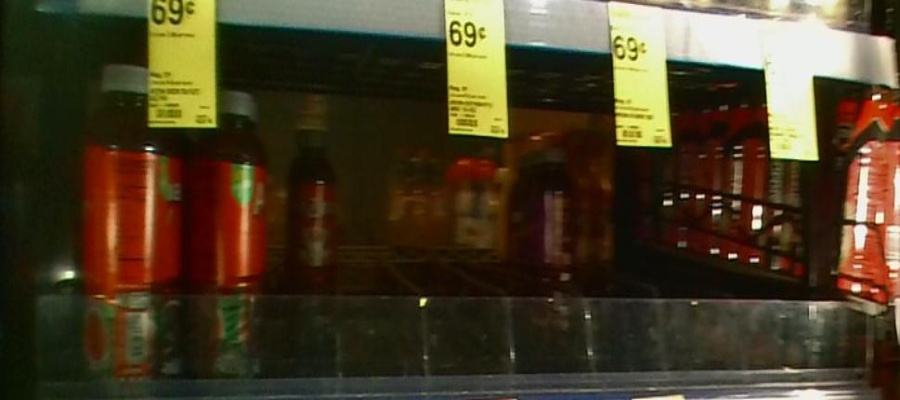bottle: (82, 53, 182, 381), (190, 80, 269, 372), (291, 118, 345, 289), (537, 135, 578, 283)
